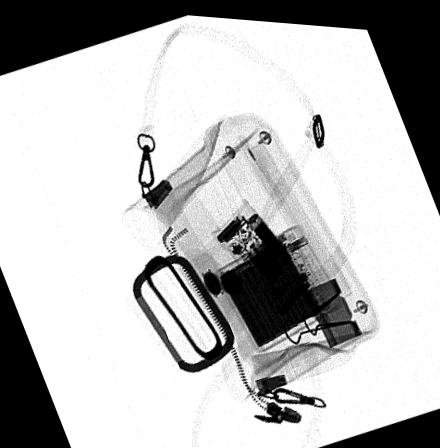Powerbank: (213, 217, 342, 350)
